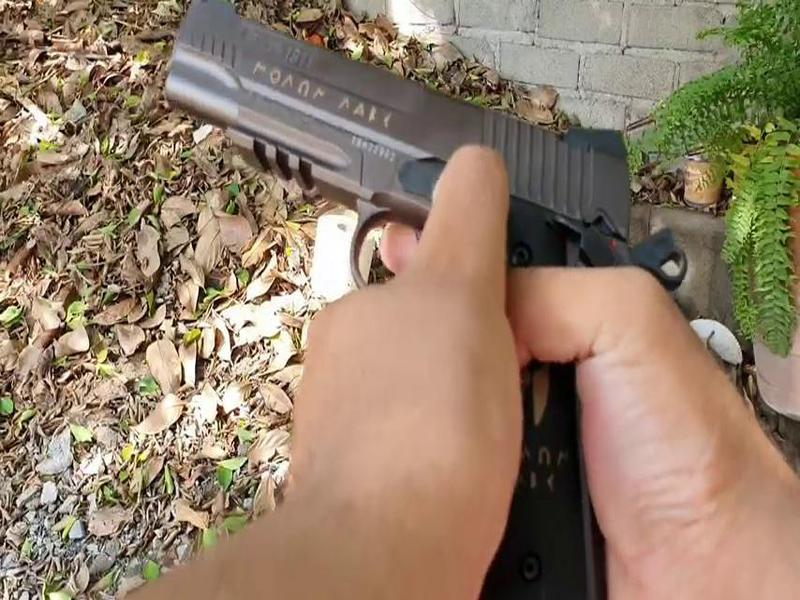Pistola: (99, 20, 675, 589)
